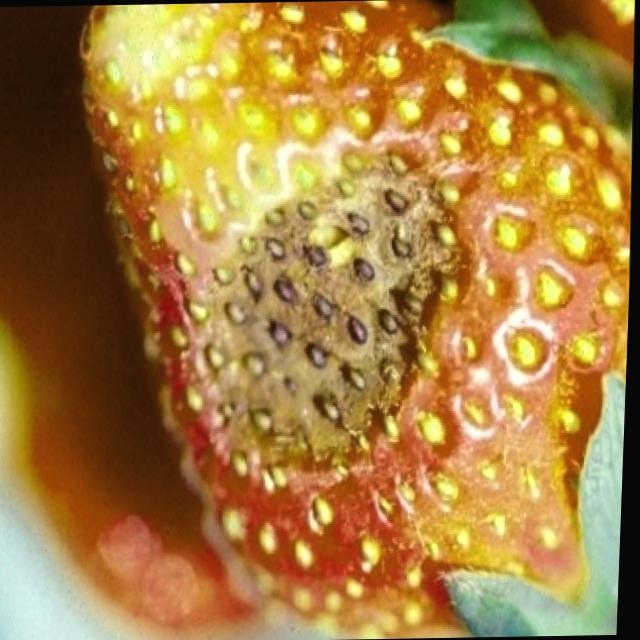Anthracnose Fruit Rot: (195, 127, 483, 500)
